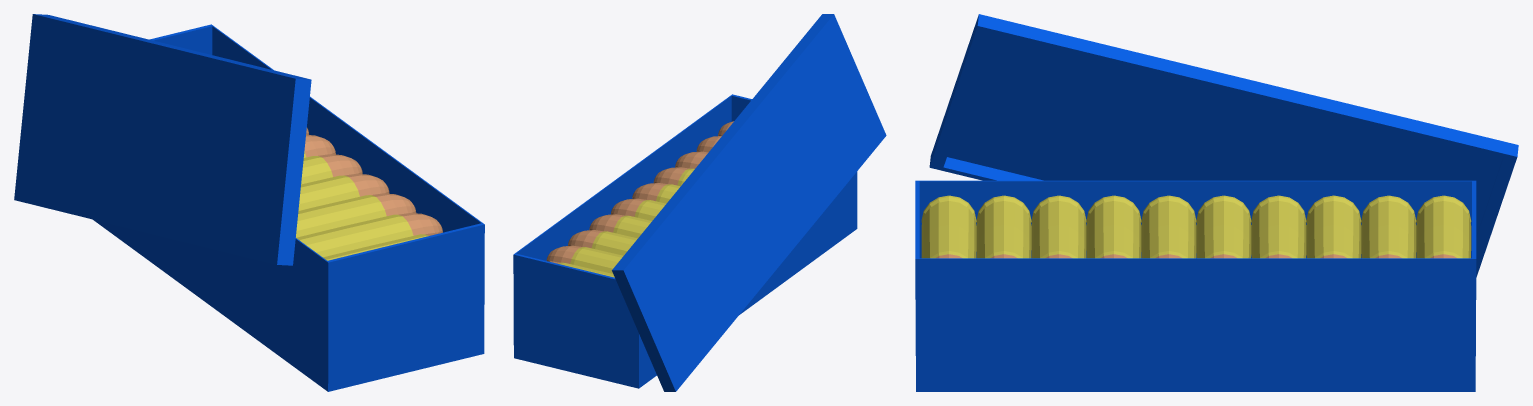
Rendered from smgAmmo.fbx.
3 views of the same model, side by side, from view 1: azimuth 30°, elevation 25°; view 2: azimuth 150°, elevation 25°; view 3: azimuth 270°, elevation 25° (orthographic). The views are drawn at different scales.
Visible parts, largest first — view 1: Cube.001, Cube, Cylinder; view 2: Cube.001, Cube, Cylinder; view 3: Cube, Cube.001, Cylinder.
Part boxes in pixels (box(x1,y1,x2,y2)): Cube.001: box(14, 14, 311, 265); Cube: box(93, 24, 484, 391); Cylinder: box(296, 127, 442, 260); Cube.001: box(612, 14, 886, 391); Cube: box(513, 94, 857, 388); Cylinder: box(546, 121, 733, 277); Cube: box(915, 180, 1476, 391); Cube.001: box(929, 14, 1518, 277); Cylinder: box(921, 195, 1471, 258).
Size of the model in its own units: 7.38 by 10.25 by 18.76.
